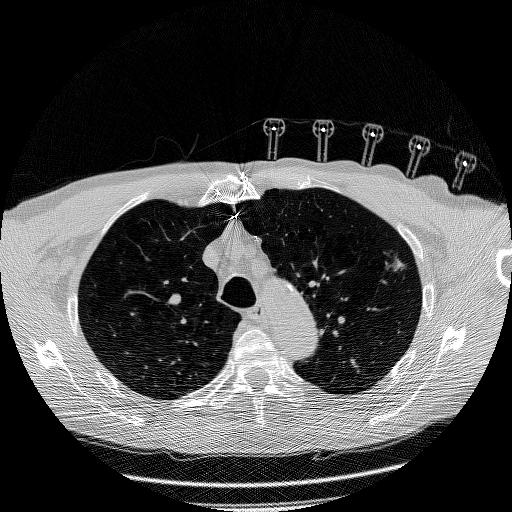nodule: (388, 256, 405, 273)
